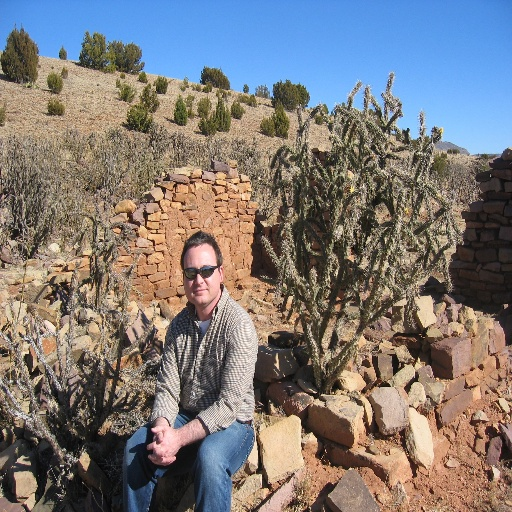hand: (150, 422, 176, 468)
